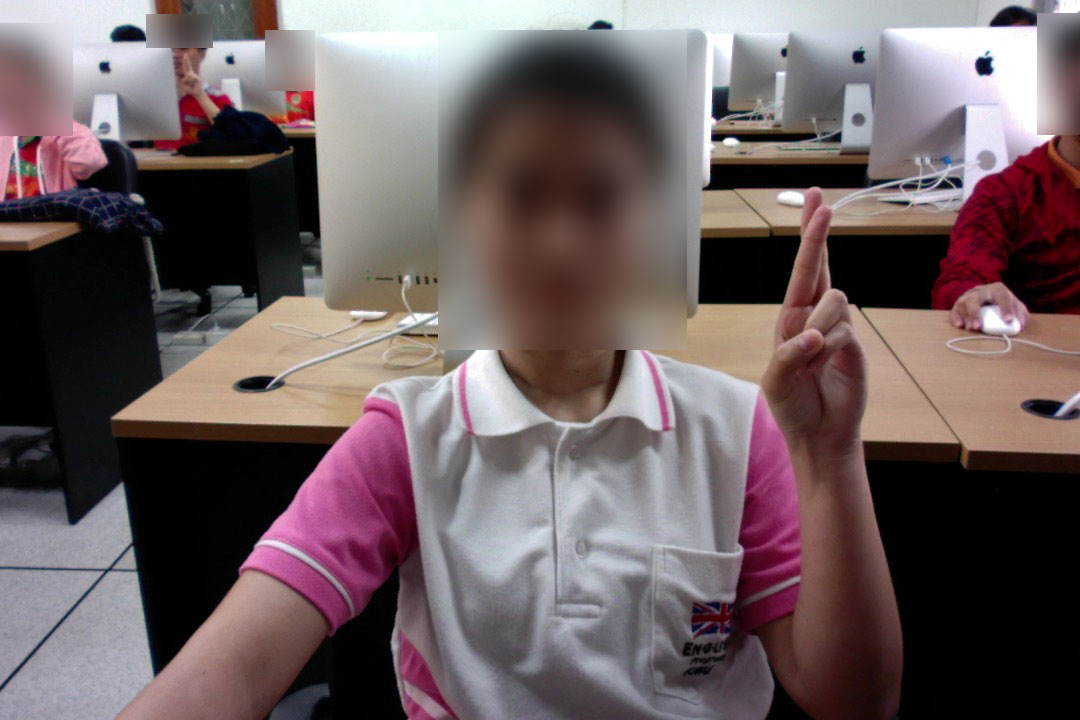rao: (760, 182, 879, 458)
